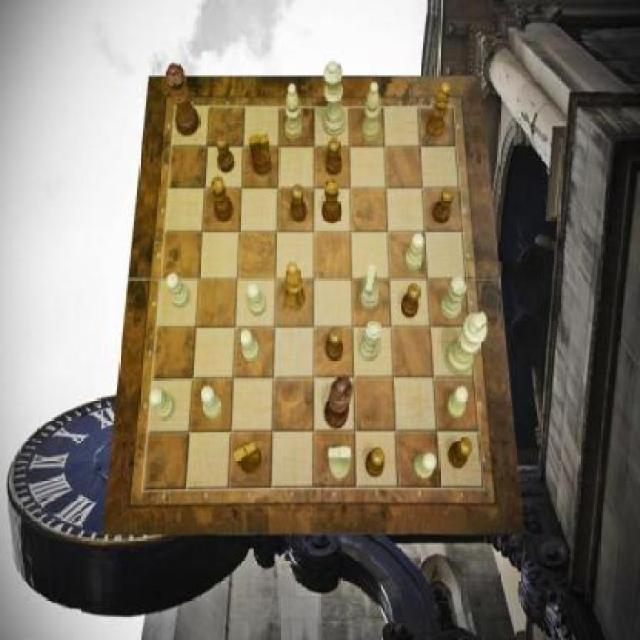bishop: (426, 83, 450, 139), (284, 262, 306, 310)
black-bishop: (326, 376, 354, 430)
black-king: (248, 134, 272, 176), (234, 440, 261, 474)
black-knight: (448, 437, 472, 469), (434, 188, 454, 224), (216, 135, 234, 174), (402, 283, 422, 318), (290, 185, 308, 222), (326, 328, 344, 362), (326, 137, 342, 175), (366, 448, 386, 477)
black-pawn: (166, 65, 200, 137)
black-queen: (211, 177, 234, 223), (323, 178, 343, 224)
black-rook: (362, 83, 379, 143), (285, 83, 302, 141)
white-bishop: (445, 312, 487, 376)
white-king: (358, 265, 379, 310), (328, 446, 350, 480)
white-knight: (166, 272, 190, 308), (151, 388, 175, 420), (406, 232, 426, 270), (446, 386, 469, 419), (202, 386, 222, 420), (240, 329, 260, 363), (247, 283, 266, 317), (414, 454, 437, 480)
white-pawn: (323, 61, 346, 138)
white-queen: (440, 276, 467, 320), (360, 322, 383, 362)
